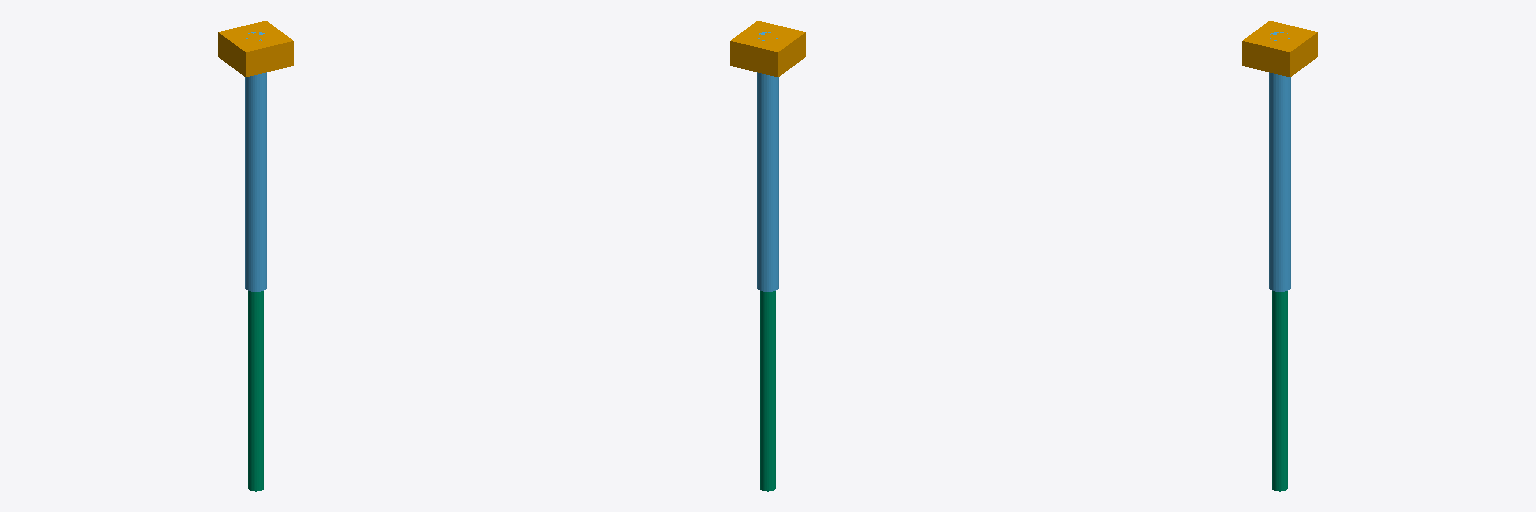
robot.urdf — two_link_arm:
<?xml version="1.0"?>
<robot name="two_link_arm">

  <!-- MuJoCo 擴充區段：嵌入在 URDF 的 robot 元素底下 -->
  <mujoco>
    <!-- discardvisual 對 URDF 的預設值是 true（MJCF 是 false）：不寫這個屬性，
         URDF 的 <visual> 會被整個丟掉，畫面上看到的其實是 collision 幾何。 -->
    <compiler angle="radian" balanceinertia="true" discardvisual="false"/>
    <option gravity="0 0 -9.81" timestep="0.002"/>
    <!-- 只有 compiler / option / size 這三個子元素會生效。寫 default、contact
         之類的會被靜默忽略（URDF 不做 schema 檢查，連 MuJoCo 專屬元素也不檢查）。
         要用 MuJoCo 的完整功能，官方建議先轉存成 MJCF 再加。 -->
  </mujoco>

  <link name="base">
    <inertial>
      <mass value="0.5"/>
      <origin xyz="0 0 0"/>
      <inertia ixx="0.001" ixy="0" ixz="0" iyy="0.001" iyz="0" izz="0.001"/>
    </inertial>
    <visual>
      <origin xyz="0 0 0"/>
      <geometry><box size="0.1 0.1 0.05"/></geometry>
    </visual>
    <!-- 固定底座不給 collision：joint1 就位在底座頂面，link1 繞它轉的時候
         一定會掃進底座裡，而底座匯入後會併進 world，MuJoCo 的父子碰撞排除
         不涵蓋 world，於是每一步都產生假的接觸力。底座本來就不需要碰撞。 -->
  </link>

  <link name="link1">
    <inertial>
      <mass value="1.0"/>
      <origin xyz="0 0 -0.25"/>
      <inertia ixx="0.02" ixy="0" ixz="0" iyy="0.02" iyz="0" izz="0.001"/>
    </inertial>
    <visual>
      <origin xyz="0 0 -0.25"/>
      <geometry><cylinder radius="0.02" length="0.5"/></geometry>
    </visual>
    <collision>
      <origin xyz="0 0 -0.25"/>
      <geometry><cylinder radius="0.02" length="0.5"/></geometry>
    </collision>
  </link>

  <joint name="joint1" type="revolute">
    <parent link="base"/>
    <child link="link1"/>
    <origin xyz="0 0 0.025" rpy="0 0 0"/>
    <axis xyz="0 1 0"/>
    <limit lower="-3.14" upper="3.14" effort="10" velocity="10"/>
  </joint>

  <link name="link2">
    <inertial>
      <mass value="0.5"/>
      <origin xyz="0 0 -0.2"/>
      <inertia ixx="0.007" ixy="0" ixz="0" iyy="0.007" iyz="0" izz="0.001"/>
    </inertial>
    <visual>
      <origin xyz="0 0 -0.2"/>
      <geometry><cylinder radius="0.015" length="0.4"/></geometry>
    </visual>
    <collision>
      <origin xyz="0 0 -0.2"/>
      <geometry><cylinder radius="0.015" length="0.4"/></geometry>
    </collision>
  </link>

  <joint name="joint2" type="revolute">
    <parent link="link1"/>
    <child link="link2"/>
    <origin xyz="0 0 -0.5" rpy="0 0 0"/>
    <axis xyz="0 1 0"/>
    <limit lower="-3.14" upper="3.14" effort="10" velocity="10"/>
  </joint>

</robot>

--- What the picture shows (computed from the rendered views, not written in the file) ---
The picture shows the robot from 3 angles, left to right: view 1: azimuth 30°, elevation 25°; view 2: azimuth 150°, elevation 25°; view 3: azimuth 330°, elevation 25°; orthographic projection.
Robot: two_link_arm — 3 links, 2 joints (2 revolute); root link base; default pose: all joints at 0.
Visible links, largest first — view 1: link1, link2, base; view 2: link1, link2, base; view 3: link1, link2, base.
Link boxes in pixels (bbox=[...]): link1: bbox=[245, 32, 266, 291]; link2: bbox=[248, 291, 263, 491]; base: bbox=[218, 21, 293, 76]; link1: bbox=[757, 32, 778, 291]; link2: bbox=[760, 291, 775, 491]; base: bbox=[730, 21, 805, 76]; link1: bbox=[1269, 32, 1290, 291]; link2: bbox=[1272, 291, 1287, 491]; base: bbox=[1242, 21, 1317, 76].
Size in the robot's own frame: 0.1 by 0.1 by 0.9 metres.
Geometry: primitives only (box / cylinder / sphere), no mesh files.
